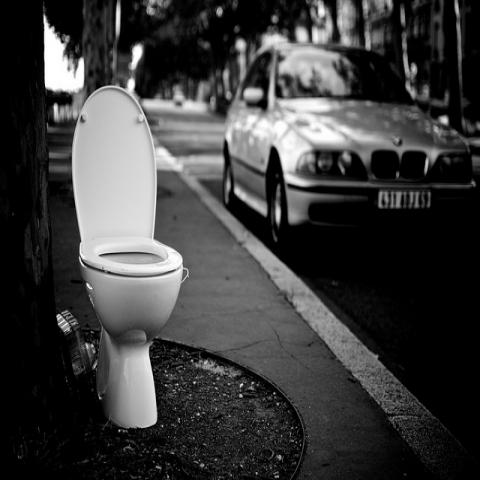car: (218, 48, 478, 254), (172, 91, 185, 107)
